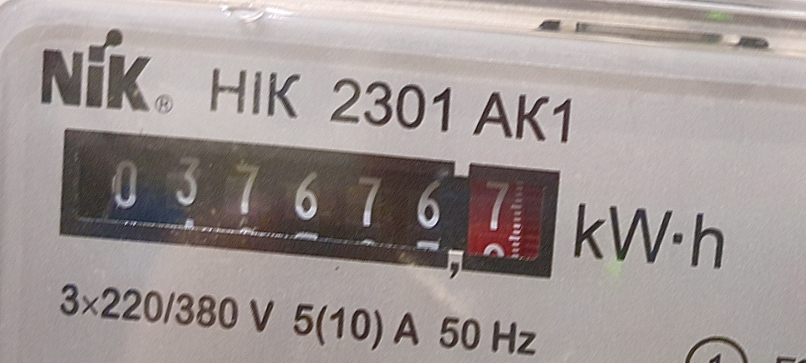0: (107, 153, 145, 210)
3: (171, 150, 203, 208)
6: (289, 164, 325, 221), (412, 173, 446, 230)
7: (350, 171, 386, 231), (228, 158, 263, 216), (480, 175, 512, 233)
screen: (39, 109, 578, 297)
